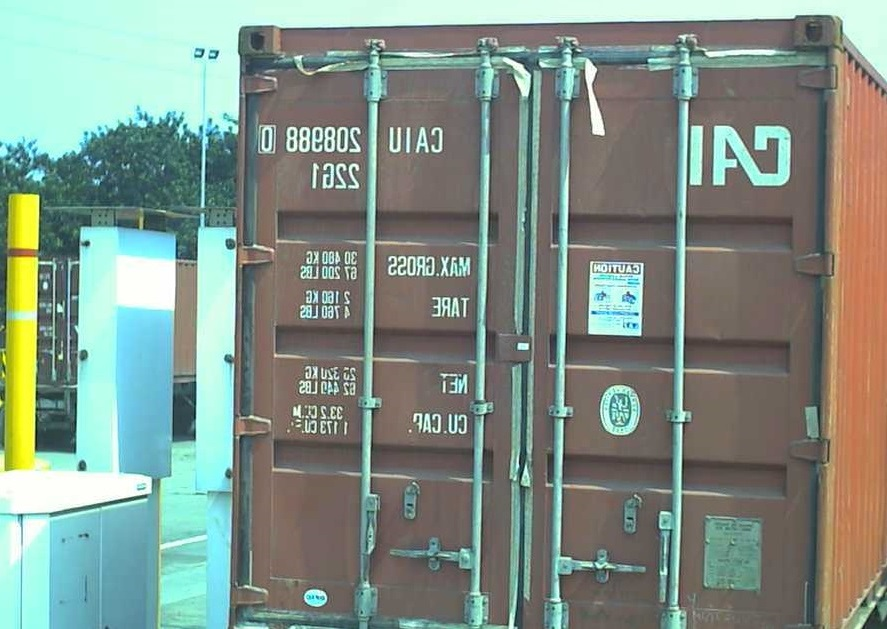container_door: (236, 13, 826, 629)
